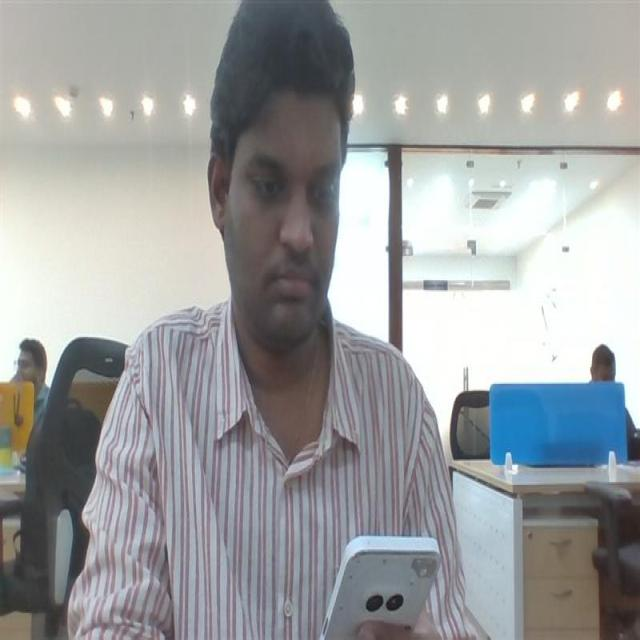phone: (321, 530, 441, 639)
